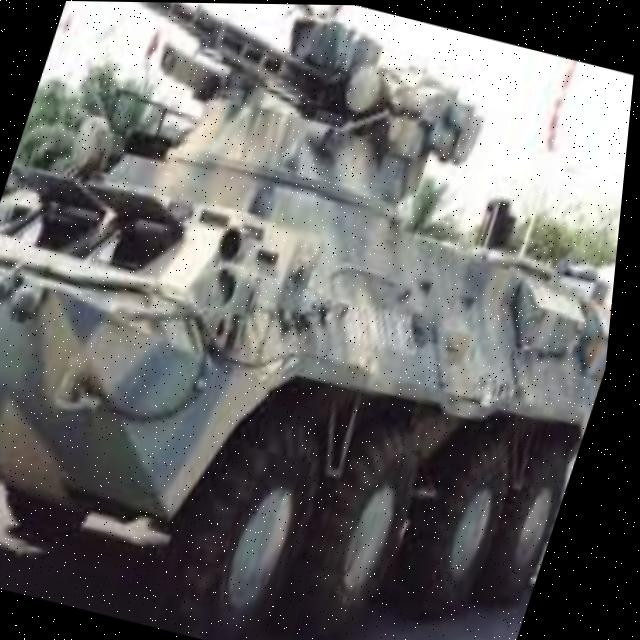MIL_APC: (0, 6, 640, 640)
